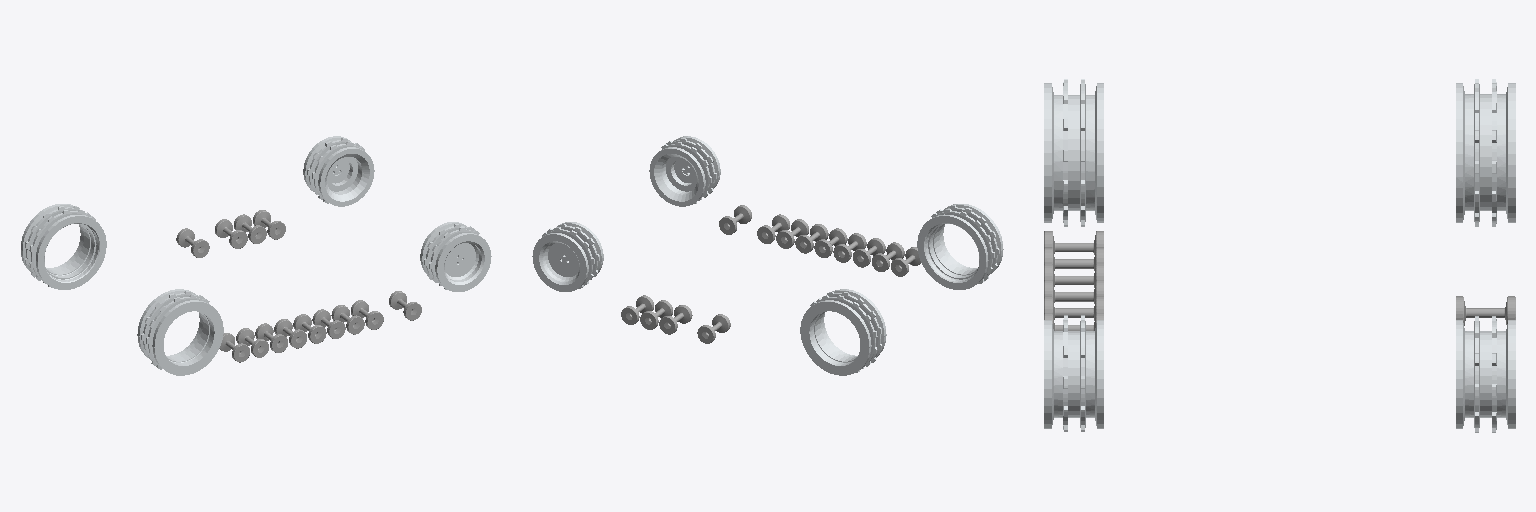
--- What the picture shows (computed from the rendered views, not written in the file) ---
Views: 3 orthographic renders of the robot side by side, from view 1: azimuth 30°, elevation 25°; view 2: azimuth 150°, elevation 25°; view 3: azimuth 270°, elevation 25°.
Model mini_ugv_asm with 27 links and 26 joints (26 continuous), rooted at base_link, posed all joints at 0.
Links seen in each view (by area): view 1: Front_Wheel_Left, Front_Wheel_Right, Rear_Wheel_Right, Rear_Wheel_Left, R_Roller_6, R_Roller_4, L_Roller_1, L_Roller_6, L_Roller_3, R_Roller_2, L_Roller_4, L_Roller_7 (+3 smaller); view 2: Front_Wheel_Right, Front_Wheel_Left, Rear_Wheel_Left, Rear_Wheel_Right, R_Roller_6, R_Roller_4, L_Roller_1, L_Roller_7, L_Roller_4, L_Roller_5, L_Roller_6, R_Roller_3 (+1 smaller); view 3: Front_Wheel_Right, Front_Wheel_Left, Rear_Wheel_Left, Rear_Wheel_Right, R_Roller_6, L_Roller_9, L_Roller_7, L_Roller_6, L_Roller_10, L_Roller_8.
Boxes of the visible links, x1=… form: Front_Wheel_Left: x1=137, y1=289, x2=223, y2=375; Front_Wheel_Right: x1=21, y1=204, x2=106, y2=289; Rear_Wheel_Right: x1=303, y1=136, x2=374, y2=206; Rear_Wheel_Left: x1=420, y1=222, x2=491, y2=291; R_Roller_6: x1=176, y1=228, x2=209, y2=257; R_Roller_4: x1=215, y1=219, x2=247, y2=248; L_Roller_1: x1=389, y1=291, x2=421, y2=320; L_Roller_6: x1=293, y1=314, x2=326, y2=343; L_Roller_3: x1=351, y1=300, x2=383, y2=329; R_Roller_2: x1=253, y1=210, x2=285, y2=239; L_Roller_4: x1=331, y1=305, x2=364, y2=334; L_Roller_7: x1=274, y1=319, x2=306, y2=348; Front_Wheel_Right: x1=800, y1=289, x2=886, y2=375; Front_Wheel_Left: x1=917, y1=204, x2=1003, y2=289; Rear_Wheel_Left: x1=649, y1=136, x2=720, y2=206; Rear_Wheel_Right: x1=532, y1=222, x2=603, y2=291; R_Roller_6: x1=697, y1=314, x2=730, y2=343; R_Roller_4: x1=659, y1=305, x2=692, y2=334; L_Roller_1: x1=719, y1=205, x2=751, y2=234; L_Roller_7: x1=833, y1=233, x2=866, y2=262; L_Roller_4: x1=776, y1=219, x2=808, y2=248; L_Roller_5: x1=795, y1=224, x2=828, y2=253; L_Roller_6: x1=814, y1=228, x2=847, y2=257; R_Roller_3: x1=640, y1=300, x2=672, y2=329; Front_Wheel_Right: x1=1456, y1=79, x2=1515, y2=226; Front_Wheel_Left: x1=1044, y1=79, x2=1103, y2=226; Rear_Wheel_Left: x1=1044, y1=315, x2=1103, y2=431; Rear_Wheel_Right: x1=1456, y1=316, x2=1515, y2=432; R_Roller_6: x1=1456, y1=296, x2=1515, y2=325; L_Roller_9: x1=1044, y1=247, x2=1103, y2=270; L_Roller_7: x1=1044, y1=280, x2=1103, y2=303; L_Roller_6: x1=1044, y1=296, x2=1103, y2=320; L_Roller_10: x1=1044, y1=231, x2=1103, y2=254; L_Roller_8: x1=1044, y1=264, x2=1103, y2=287.
Bounding box of the posed robot: 0.8669 × 0.59 × 0.1867 m (x, y, z).
17 mesh visuals loaded from 27 distinct referenced files (17 binary STL); not drawn: 10 (reference not matched to a file when rendering).

The robot description file, URDF, robot "mini_ugv_asm":
<?xml version="1.0" encoding="utf-8"?>
<!-- This URDF was automatically created by SolidWorks to URDF Exporter! Originally created by Stephen Brawner ([email redacted]) 
     Commit Version: 1.6.0-4-g7f85cfe  Build Version: 1.6.7995.38578
     For more information, please see http://wiki.ros.org/sw_urdf_exporter -->
<robot
  name="mini_ugv_asm">
  <link
    name="base_link">
    <inertial>
      <origin
        xyz="-0.0822009683879234 -0.00354592124515457 0.0195704968008771"
        rpy="0 0 0" />
      <mass
        value="43.2527722253491" />
      <inertia
        ixx="0.636823963556697"
        ixy="-0.000430801390176523"
        ixz="0.0114672691633471"
        iyy="1.44056741497044"
        iyz="-0.000941262680704078"
        izz="1.89219708661203" />
    </inertial>
    <visual>
      <origin
        xyz="0 0 0"
        rpy="0 0 0" />
      <geometry>
        <mesh
          filename="package://mini_ugv_asm/meshes/base_link.STL" />
      </geometry>
      <material
        name="">
        <color
          rgba="0.698039215686274 0.698039215686274 0.698039215686274 1" />
      </material>
    </visual>
    <!-- <collision>
      <origin
        xyz="0 0 0"
        rpy="0 0 0" />
      <geometry>
        <mesh
          filename="package://mini_ugv_asm/meshes/base_link.STL" />
      </geometry>
    </collision> -->
  </link>
  <link
    name="Rear_Wheel_Left">
    <inertial>
      <origin
        xyz="-4.4397E-07 0.0068282 2.7756E-17"
        rpy="0 0 0" />
      <mass
        value="1.3168" />
      <inertia
        ixx="0.0023855"
        ixy="-6.126E-09"
        ixz="5.4928E-19"
        iyy="0.0036694"
        iyz="1.2599E-19"
        izz="0.0023855" />
    </inertial>
    <visual>
      <origin
        xyz="0 0 0"
        rpy="0 0 0" />
      <geometry>
        <mesh
          filename="package://mini_ugv_asm/meshes/Rear_Wheel_Left.STL" />
      </geometry>
      <material
        name="">
        <color
          rgba="0.89804 0.91765 0.92941 1" />
      </material>
    </visual>
    <collision>
      <origin
        xyz="0 0 0"
        rpy="1.5708 0 0" />
      <geometry>
        <cylinder length="0.08" radius="0.13"/>
        <!-- <mesh -->
          <!-- filename="package://mini_ugv_asm/meshes/rear_wheel_collision.STL" /> -->
      </geometry>
    </collision>
  </link>
  <joint
    name="R_W_L"
    type="continuous">
    <origin
      xyz="0.36016 -0.2664 0.009"
      rpy="0 0 0" />
    <parent
      link="base_link" />
    <child
      link="Rear_Wheel_Left" />
    <axis
      xyz="0 -1 0" />
    <mimic joint="left_wheel" multiplier="-1.0"/>
  </joint>
  <link
    name="Rear_Wheel_Right">
    <inertial>
      <origin
        xyz="-1.1102E-16 -0.0068282 -4.4397E-07"
        rpy="0 0 0" />
      <mass
        value="1.3168" />
      <inertia
        ixx="0.0023855"
        ixy="1.0123E-20"
        ixz="3.3599E-19"
        iyy="0.0036694"
        iyz="6.126E-09"
        izz="0.0023855" />
    </inertial>
    <visual>
      <origin
        xyz="0 0 0"
        rpy="0 0 0" />
      <geometry>
        <mesh
          filename="package://mini_ugv_asm/meshes/Rear_Wheel_Right.STL" />
      </geometry>
      <material
        name="">
        <color
          rgba="0.89804 0.91765 0.92941 1" />
      </material>
    </visual>
    <collision>
      <origin
        xyz="0 0 0"
        rpy="1.5708 0 0" />
      <geometry>
        <cylinder length="0.08" radius="0.13"/>
        <!-- <mesh
          filename="package://mini_ugv_asm/meshes/rear_wheel_collision.STL" /> -->
      </geometry>
    </collision>
  </link>
  <joint
    name="R_W_R"
    type="continuous">
    <origin
      xyz="0.36016 0.2664 0.009"
      rpy="0 0 0" />
    <parent
      link="base_link" />
    <child
      link="Rear_Wheel_Right" />
    <axis
      xyz="0 -1 0" />
    <mimic joint="right_wheel" multiplier="-1.0"/>
  </joint>
  <link
    name="Front_Wheel_Left">
    <inertial>
      <origin
        xyz="8.3267E-17 0.0073593 0"
        rpy="0 0 0" />
      <mass
        value="1.4353" />
      <inertia
        ixx="0.004811"
        ixy="-1.8817E-19"
        ixz="1.0723E-18"
        iyy="0.008112"
        iyz="6.6574E-19"
        izz="0.004811" />
    </inertial>
    <visual>
      <origin
        xyz="0 0 0"
        rpy="0 0 0" />
      <geometry>
        <mesh
          filename="package://mini_ugv_asm/meshes/Front_Wheel_Left.STL" />
      </geometry>
      <material
        name="">
        <color
          rgba="0.89804 0.91765 0.92941 1" />
      </material>
    </visual>
    <collision>
      <origin
        xyz="0 0 0"
        rpy="1.5708 0 0" />
      <geometry>
        <cylinder length="0.09" radius="0.115"/>
        <!-- <mesh
          filename="package://mini_ugv_asm/meshes/front_wheel_collision.STL" /> -->
      </geometry>
    </collision>
  </link>
  <joint
    name="left_wheel"
    type="continuous">
    <origin
      xyz="-0.33984 -0.2664 -0.011"
      rpy="0 0 0" />
    <parent
      link="base_link" />
    <child
      link="Front_Wheel_Left" />
    <axis
      xyz="0 -1 0" />
  </joint>
  <link
    name="Front_Wheel_Right">
    <inertial>
      <origin
        xyz="2.9143E-16 -0.0073593 -3.0531E-16"
        rpy="0 0 0" />
      <mass
        value="1.4353" />
      <inertia
        ixx="0.004811"
        ixy="-5.2818E-19"
        ixz="1.5753E-18"
        iyy="0.008112"
        iyz="-4.2567E-19"
        izz="0.004811" />
    </inertial>
    <visual>
      <origin
        xyz="0 0 0"
        rpy="0 0 0" />
      <geometry>
        <mesh
          filename="package://mini_ugv_asm/meshes/Front_Wheel_Right.STL" />
      </geometry>
      <material
        name="">
        <color
          rgba="0.89804 0.91765 0.92941 1" />
      </material>
    </visual>
    <collision>
      <origin
        xyz="0 0 0"
        rpy="1.5708 0 0" />
      <geometry>
        <cylinder length="0.09" radius="0.115"/>
        <!-- <mesh
          filename="package://mini_ugv_asm/meshes/front_wheel_collision.STL" /> -->
      </geometry>
    </collision>
  </link>
  <joint
    name="right_wheel"
    type="continuous">
    <origin
      xyz="-0.33984 0.2664 -0.011"
      rpy="0 0 0" />
    <parent
      link="base_link" />
    <child
      link="Front_Wheel_Right" />
    <axis
      xyz="0 -1 0" />
  </joint>
  <link
    name="Flippers_Left">
    <inertial>
      <origin
        xyz="1.7629E-05 -0.033132 5.3955E-05"
        rpy="0 0 0" />
      <mass
        value="3.0642" />
      <inertia
        ixx="0.00058759"
        ixy="-1.4902E-07"
        ixz="-3.3147E-07"
        iyy="0.0011056"
        iyz="-4.5892E-07"
        izz="0.00058668" />
    </inertial>
    <visual>
      <origin
        xyz="0 0 0"
        rpy="0 3.14 0" />
      <geometry>
        <mesh
          filename="package://mini_ugv_asm/meshes/Flippers_Left.STL" />
      </geometry>
      <material
        name="">
        <color
          rgba="0.69804 0.69804 0.69804 1" />
      </material>
    </visual>
    <collision>
      <origin
        xyz="0 -0.22 0"
        rpy="0 3.489066 0" />
      <geometry>
        <mesh
          filename="package://mini_ugv_asm/meshes/flipper_collision.STL" />
      </geometry>
    </collision>
  </link>
  <joint
    name="Flipper"
    type="continuous">
    <origin
      xyz="-0.33984 -0.2664 -0.011"
      rpy="0 0 0" />
    <parent
      link="base_link" />
    <child
      link="Flippers_Left" />
    <axis
      xyz="0 -1 0" />
  </joint>
  <link
    name="Flippers_Right">
    <inertial>
      <origin
        xyz="-1.7561E-05 0.069532 -5.3977E-05"
        rpy="0 0 0" />
      <mass
        value="3.0642" />
      <inertia
        ixx="0.00058759"
        ixy="-1.5012E-07"
        ixz="-3.3147E-07"
        iyy="0.0011056"
        iyz="-4.5857E-07"
        izz="0.00058668" />
    </inertial>
    <visual>
      <origin
        xyz="0 0 0"
        rpy="0 0 0" />
      <geometry>
        <mesh
          filename="package://mini_ugv_asm/meshes/Flippers_Right.STL" />
      </geometry>
      <material
        name="">
        <color
          rgba="0.69804 0.69804 0.69804 1" />
      </material>
    </visual>
    <collision>
      <origin
        xyz="0 0 0"
        rpy="0 0.349066 0" />
      <geometry>
        <mesh
          filename="package://mini_ugv_asm/meshes/flipper_collision.STL" />
      </geometry>
    </collision>
  </link>
  <joint
    name="F_R"
    type="continuous">
    <origin
      xyz="-0.33984 0.23 -0.011"
      rpy="0 0 0" />
    <parent
      link="base_link" />
    <child
      link="Flippers_Right" />
    <axis
      xyz="0 -1 0" />
    <mimic joint="Flipper" multiplier="1.0"/>
  </joint>
  <link
    name="L_Roller_1">
    <inertial>
      <origin
        xyz="-1.1102E-16 -5.7202E-07 2.7756E-17"
        rpy="0 0 0" />
      <mass
        value="0.051837" />
      <inertia
        ixx="5.1859E-05"
        ixy="-2.4838E-20"
        ixz="-5.9519E-20"
        iyy="1.3273E-05"
        iyz="-4.657E-20"
        izz="5.1859E-05" />
    </inertial>
    <visual>
      <origin
        xyz="0 0 0"
        rpy="0 0 0" />
      <geometry>
        <mesh
          filename="package://mini_ugv_asm/meshes/L_Roller_1.STL" />
      </geometry>
      <material
        name="">
        <color
          rgba="0.69804 0.69804 0.69804 1" />
      </material>
    </visual>
  </link>
  <joint
    name="lr1"
    type="continuous">
    <origin
      xyz="0.23166 -0.2575 -0.07925"
      rpy="0 0 0" />
    <parent
      link="base_link" />
    <child
      link="L_Roller_1" />
    <axis
      xyz="0 1 0" />
    <mimic joint="left_wheel" multiplier="-1.0"/>
  </joint>
  <link
    name="L_Roller_2">
    <inertial>
      <origin
        xyz="2.2204E-16 -5.7202E-07 -1.5266E-16"
        rpy="0 0 0" />
      <mass
        value="0.051837" />
      <inertia
        ixx="5.1859E-05"
        ixy="-1.2265E-19"
        ixz="-5.1659E-21"
        iyy="1.3273E-05"
        iyz="3.963E-20"
        izz="5.1859E-05" />
    </inertial>
    <visual>
      <origin
        xyz="0 0 0"
        rpy="0 0 0" />
      <geometry>
        <mesh
          filename="package://mini_ugv_asm/meshes/L_Roller_2.STL" />
      </geometry>
      <material
        name="">
        <color
          rgba="0.69804 0.69804 0.69804 1" />
      </material>
    </visual>
    <!-- <collision>
      <origin
        xyz="0 0 0"
        rpy="1.5708 0 0" />
      <geometry>
        <cylinder length="0.07" radius="0.04"/>
        <mesh
          filename="package://mini_ugv_asm/meshes/L_Roller_2.STL" />
      </geometry>
    </collision> -->
  </link>
  <joint
    name="lr2"
    type="continuous">
    <origin
      xyz="0.18316 -0.2575 -0.07925"
      rpy="0 0 0" />
    <parent
      link="base_link" />
    <child
      link="L_Roller_2" />
    <axis
      xyz="0 1 0" />
    <mimic joint="left_wheel" multiplier="-1.0"/>
  </joint>
  <link
    name="L_Roller_3">
    <inertial>
      <origin
        xyz="-1.1102E-16 -5.7202E-07 8.3267E-17"
        rpy="0 0 0" />
      <mass
        value="0.051837" />
      <inertia
        ixx="5.1859E-05"
        ixy="8.14E-20"
        ixz="1.0677E-19"
        iyy="1.3273E-05"
        iyz="-4.2563E-20"
        izz="5.1859E-05" />
    </inertial>
    <visual>
      <origin
        xyz="0 0 0"
        rpy="0 0 0" />
      <geometry>
        <mesh
          filename="package://mini_ugv_asm/meshes/L_Roller_3.STL" />
      </geometry>
      <material
        name="">
        <color
          rgba="0.69804 0.69804 0.69804 1" />
      </material>
    </visual>
    <!-- <collision>
      <origin
        xyz="0 0 0"
        rpy="1.5708 0 0" />
      <geometry>
        <cylinder length="0.07" radius="0.04"/>
      </geometry>
    </collision> -->
  </link>
  <joint
    name="lr3"
    type="continuous">
    <origin
      xyz="0.13466 -0.2575 -0.07925"
      rpy="0 0 0" />
    <parent
      link="base_link" />
    <child
      link="L_Roller_3" />
    <axis
      xyz="0 1 0" />
    <mimic joint="left_wheel" multiplier="-1.0"/>
  </joint>
  <link
    name="L_Roller_4">
    <inertial>
      <origin
        xyz="0 -5.7202E-07 -8.3267E-17"
        rpy="0 0 0" />
      <mass
        value="0.051837" />
      <inertia
        ixx="5.1859E-05"
        ixy="-1.2838E-19"
        ixz="4.0242E-20"
        iyy="1.3273E-05"
        iyz="2.0481E-20"
        izz="5.1859E-05" />
    </inertial>
    <visual>
      <origin
        xyz="0 0 0"
        rpy="0 0 0" />
      <geometry>
        <mesh
          filename="package://mini_ugv_asm/meshes/L_Roller_4.STL" />
      </geometry>
      <material
        name="">
        <color
          rgba="0.69804 0.69804 0.69804 1" />
      </material>
    </visual>
    <!-- <collision>
      <origin
        xyz="0 0 0"
        rpy="1.5708 0 0" />
      <geometry>
        <cylinder length="0.07" radius="0.04"/>
      </geometry>
    </collision> -->
  </link>
  <joint
    name="lr4"
    type="continuous">
    <origin
      xyz="0.086163 -0.2575 -0.07925"
      rpy="0 0 0" />
    <parent
      link="base_link" />
    <child
      link="L_Roller_4" />
    <axis
      xyz="0 1 0" />
    <mimic joint="left_wheel" multiplier="-1.0"/>
  </joint>
  <link
    name="L_Roller_5">
    <inertial>
      <origin
        xyz="0 -5.7202E-07 -9.7145E-17"
        rpy="0 0 0" />
      <mass
        value="0.051837" />
      <inertia
        ixx="5.1859E-05"
        ixy="-1.3783E-19"
        ixz="4.9588E-20"
        iyy="1.3273E-05"
        iyz="6.7041E-21"
        izz="5.1859E-05" />
    </inertial>
    <visual>
      <origin
        xyz="0 0 0"
        rpy="0 0 0" />
      <geometry>
        <mesh
          filename="package://mini_ugv_asm/meshes/L_Roller_5.STL" />
      </geometry>
      <material
        name="">
        <color
          rgba="0.69804 0.69804 0.69804 1" />
      </material>
    </visual>
    <!-- <collision>
      <origin
        xyz="0 0 0"
        rpy="1.5708 0 0" />
      <geometry>
        <cylinder length="0.07" radius="0.04"/>
      </geometry>
    </collision> -->
  </link>
  <joint
    name="lr5"
    type="continuous">
    <origin
      xyz="0.037663 -0.2575 -0.07925"
      rpy="0 0 0" />
    <parent
      link="base_link" />
    <child
      link="L_Roller_5" />
    <axis
      xyz="0 1 0" />
    <mimic joint="left_wheel" multiplier="-1.0"/>
  </joint>
  <link
    name="L_Roller_6">
    <inertial>
      <origin
        xyz="-5.5511E-17 -5.7202E-07 5.5511E-17"
        rpy="0 0 0" />
      <mass
        value="0.051837" />
      <inertia
        ixx="5.1859E-05"
        ixy="2.3549E-19"
        ixz="4.437E-21"
        iyy="1.3273E-05"
        iyz="-4.3926E-20"
        izz="5.1859E-05" />
    </inertial>
    <visual>
      <origin
        xyz="0 0 0"
        rpy="0 0 0" />
      <geometry>
        <mesh
          filename="package://mini_ugv_asm/meshes/L_Roller_6.STL" />
      </geometry>
      <material
        name="">
        <color
          rgba="0.69804 0.69804 0.69804 1" />
      </material>
    </visual>
    <!-- <collision>
      <origin
        xyz="0 0 0"
        rpy="1.5708 0 0" />
      <geometry>
        <cylinder length="0.07" radius="0.04"/>
      </geometry>
    </collision> -->
  </link>
  <joint
    name="lr6"
    type="continuous">
    <origin
      xyz="-0.010837 -0.2575 -0.07925"
      rpy="0 0 0" />
    <parent
      link="base_link" />
    <child
      link="L_Roller_6" />
    <axis
      xyz="0 1 0" />
    <mimic joint="left_wheel" multiplier="-1.0"/>
  </joint>
  <link
    name="L_Roller_7">
    <inertial>
      <origin
        xyz="1.6653E-16 -5.7202E-07 -6.9389E-17"
        rpy="0 0 0" />
      <mass
        value="0.051837" />
      <inertia
        ixx="5.1859E-05"
        ixy="1.1597E-19"
        ixz="2.9154E-22"
        iyy="1.3273E-05"
        iyz="-4.8308E-21"
        izz="5.1859E-05" />
    </inertial>
    <visual>
      <origin
        xyz="0 0 0"
        rpy="0 0 0" />
      <geometry>
        <mesh
          filename="package://mini_ugv_asm/meshes/L_Roller_7.STL" />
      </geometry>
      <material
        name="">
        <color
          rgba="0.69804 0.69804 0.69804 1" />
      </material>
    </visual>
    <!-- <collision>
      <origin
        xyz="0 0 0"
        rpy="1.5708 0 0" />
      <geometry>
        <cylinder length="0.07" radius="0.04"/>
      </geometry>
    </collision> -->
  </link>
  <joint
    name="lr7"
    type="continuous">
    <origin
      xyz="-0.059337 -0.2575 -0.07925"
      rpy="0 0 0" />
    <parent
      link="base_link" />
    <child
      link="L_Roller_7" />
    <axis
      xyz="0 1 0" />
    <mimic joint="left_wheel" multiplier="-1.0"/>
  </joint>
  <link
    name="L_Roller_8">
    <inertial>
      <origin
        xyz="1.1102E-16 -5.7202E-07 -5.5511E-17"
        rpy="0 0 0" />
      <mass
        value="0.051837" />
      <inertia
        ixx="5.1859E-05"
        ixy="1.1597E-19"
        ixz="2.9154E-22"
        iyy="1.3273E-05"
        iyz="-4.8308E-21"
        izz="5.1859E-05" />
    </inertial>
    <visual>
      <origin
        xyz="0 0 0"
        rpy="0 0 0" />
      <geometry>
        <mesh
          filename="package://mini_ugv_asm/meshes/L_Roller_8.STL" />
      </geometry>
      <material
        name="">
        <color
          rgba="0.69804 0.69804 0.69804 1" />
      </material>
    </visual>
    <!-- <collision>
      <origin
        xyz="0 0 0"
        rpy="1.5708 0 0" />
      <geometry>
        <cylinder length="0.07" radius="0.04"/>
      </geometry>
    </collision> -->
  </link>
  <joint
    name="lr8"
    type="continuous">
    <origin
      xyz="-0.10784 -0.2575 -0.07925"
      rpy="0 0 0" />
    <parent
      link="base_link" />
    <child
      link="L_Roller_8" />
    <axis
      xyz="0 1 0" />
    <mimic joint="left_wheel" multiplier="-1.0"/>
  </joint>
  <link
    name="L_Roller_9">
    <inertial>
      <origin
        xyz="1.6653E-16 -5.7202E-07 -5.5511E-17"
        rpy="0 0 0" />
      <mass
        value="0.051837" />
      <inertia
        ixx="5.1859E-05"
        ixy="1.1597E-19"
        ixz="2.9154E-22"
        iyy="1.3273E-05"
        iyz="-4.8308E-21"
        izz="5.1859E-05" />
    </inertial>
    <visual>
      <origin
        xyz="0 0 0"
        rpy="0 0 0" />
      <geometry>
        <mesh
          filename="package://mini_ugv_asm/meshes/L_Roller_9.STL" />
      </geometry>
      <material
        name="">
        <color
          rgba="0.69804 0.69804 0.69804 1" />
      </material>
    </visual>
    <!-- <collision>
      <origin
        xyz="0 0 0"
        rpy="1.5708 0 0" />
      <geometry>
        <cylinder length="0.07" radius="0.04"/>
      </geometry>
    </collision> -->
  </link>
  <joint
    name="lr9"
    type="continuous">
    <origin
      xyz="-0.15634 -0.2575 -0.07925"
      rpy="0 0 0" />
    <parent
      link="base_link" />
    <child
      link="L_Roller_9" />
    <axis
      xyz="0 1 0" />
    <mimic joint="left_wheel" multiplier="-1.0"/>
  </joint>
  <link
    name="L_Roller_10">
    <inertial>
      <origin
        xyz="2.2204E-16 -5.7202E-07 -8.3267E-17"
        rpy="0 0 0" />
      <mass
        value="0.051837" />
      <inertia
        ixx="5.1859E-05"
        ixy="-6.4079E-20"
        ixz="2.4481E-22"
        iyy="1.3273E-05"
        iyz="2.5428E-20"
        izz="5.1859E-05" />
    </inertial>
    <visual>
      <origin
        xyz="0 0 0"
        rpy="0 0 0" />
      <geometry>
        <mesh
          filename="package://mini_ugv_asm/meshes/L_Roller_10.STL" />
      </geometry>
      <material
        name="">
        <color
          rgba="0.69804 0.69804 0.69804 1" />
      </material>
    </visual>
    <!-- <collision>
      <origin
        xyz="0 0 0"
        rpy="1.5708 0 0" />
      <geometry>
        <cylinder length="0.07" radius="0.04"/>
      </geometry>
    </collision> -->
  </link>
  <joint
    name="lr10"
    type="continuous">
    <origin
      xyz="-0.20484 -0.2575 -0.07925"
      rpy="0 0 0" />
    <parent
      link="base_link" />
    <child
      link="L_Roller_10" />
    <axis
      xyz="0 1 0" />
    <mimic joint="left_wheel" multiplier="-1.0"/>
  </joint>
  <link
    name="R_Roller_1">
    <inertial>
      <origin
        xyz="-1.1102E-16 -5.7202E-07 0"
        rpy="0 0 0" />
      <mass
        value="0.051837" />
      <inertia
        ixx="5.1859E-05"
        ixy="9.2222E-20"
        ixz="-5.9515E-20"
        iyy="1.3273E-05"
        iyz="-3.0992E-20"
        izz="5.1859E-05" />
    </inertial>
    <visual>
      <origin
        xyz="0 0 0"
        rpy="0 0 0" />
      <geometry>
        <mesh
          filename="package://mini_ugv_asm/meshes/R_Roller_1.STL" />
      </geometry>
      <material
        name="">
        <color
          rgba="0.69804 0.69804 0.69804 1" />
      </material>
    </visual>
    <!-- <collision>
      <origin
        xyz="0 0 0"
        rpy="1.5708 0 0" />
      <geometry>
        <cylinder length="0.07" radius="0.04"/>
      </geometry>
    </collision> -->
  </link>
  <joint
    name="rr1"
    type="continuous">
    <origin
      xyz="0.23166 0.2575 -0.07925"
      rpy="0 0 0" />
    <parent
      link="base_link" />
    <child
      link="R_Roller_1" />
    <axis
      xyz="0 1 0" />
    <mimic joint="right_wheel" multiplier="-1.0"/>
  </joint>
  <link
    name="R_Roller_2">
    <inertial>
      <origin
        xyz="2.2204E-16 -5.7202E-07 -2.7756E-17"
        rpy="0 0 0" />
      <mass
        value="0.051837" />
      <inertia
        ixx="5.1859E-05"
        ixy="-4.3431E-20"
        ixz="6.1368E-20"
        iyy="1.3273E-05"
        iyz="5.5602E-20"
        izz="5.1859E-05" />
    </inertial>
    <visual>
      <origin
        xyz="0 0 0"
        rpy="0 0 0" />
      <geometry>
        <mesh
          filename="package://mini_ugv_asm/meshes/R_Roller_2.STL" />
      </geometry>
      <material
        name="">
        <color
          rgba="0.69804 0.69804 0.69804 1" />
      </material>
    </visual>
    <!-- <collision>
      <origin
        xyz="0 0 0"
        rpy="1.5708 0 0" />
      <geometry>
        <cylinder length="0.07" radius="0.04"/>
      </geometry>
    </collision> -->
  </link>
  <joint
    name="rr2"
    type="continuous">
    <origin
      xyz="0.18316 0.2575 -0.07925"
      rpy="0 0 0" />
    <parent
      link="base_link" />
    <child
      link="R_Roller_2" />
    <axis
      xyz="0 1 0" />
    <mimic joint="right_wheel" multiplier="-1.0"/>
  </joint>
  <link
    name="R_Roller_3">
    <inertial>
      <origin
        xyz="-1.1102E-16 -5.7202E-07 5.5511E-17"
        rpy="0 0 0" />
      <mass
        value="0.051837" />
      <inertia
        ixx="5.1859E-05"
        ixy="-5.8286E-20"
        ixz="9.3699E-20"
        iyy="1.3273E-05"
        iyz="-1.919E-20"
        izz="5.1859E-05" />
    </inertial>
    <visual>
      <origin
        xyz="0 0 0"
        rpy="0 0 0" />
      <geometry>
        <mesh
          filename="package://mini_ugv_asm/meshes/R_Roller_3.STL" />
      </geometry>
      <material
        name="">
        <color
          rgba="0.69804 0.69804 0.69804 1" />
      </material>
    </visual>
    <!-- <collision>
      <origin
        xyz="0 0 0"
        rpy="1.5708 0 0" />
      <geometry>
        <cylinder length="0.07" radius="0.04"/>
      </geometry>
    </collision> -->
  </link>
  <joint
    name="rr3"
    type="continuous">
    <origin
      xyz="0.13466 0.2575 -0.07925"
      rpy="0 0 0" />
    <parent
      link="base_link" />
    <child
      link="R_Roller_3" />
    <axis
      xyz="0 1 0" />
    <mimic joint="right_wheel" multiplier="-1.0"/>
  </joint>
  <link
    name="R_Roller_4">
    <inertial>
      <origin
        xyz="1.1102E-16 -5.7202E-07 -5.5511E-17"
        rpy="0 0 0" />
      <mass
        value="0.051837" />
      <inertia
        ixx="5.1859E-05"
        ixy="3.6738E-20"
        ixz="6.5546E-20"
        iyy="1.3273E-05"
        iyz="-1.3118E-20"
        izz="5.1859E-05" />
    </inertial>
    <visual>
      <origin
        xyz="0 0 0"
        rpy="0 0 0" />
      <geometry>
        <mesh
          filename="package://mini_ugv_asm/meshes/R_Roller_4.STL" />
      </geometry>
      <material
        name="">
        <color
          rgba="0.69804 0.69804 0.69804 1" />
      </material>
    </visual>
    <!-- <collision>
      <origin
        xyz="0 0 0"
        rpy="1.5708 0 0" />
      <geometry>
        <cylinder length="0.07" radius="0.04"/>
      </geometry>
    </collision> -->
  </link>
  <joint
    name="rr4"
    type="continuous">
    <origin
      xyz="0.086163 0.2575 -0.07925"
      rpy="0 0 0" />
    <parent
      link="base_link" />
    <child
      link="R_Roller_4" />
    <axis
      xyz="0 1 0" />
    <mimic joint="right_wheel" multiplier="-1.0"/>
  </joint>
  <link
    name="R_Roller_5">
    <inertial>
      <origin
        xyz="-1.1102E-16 -5.7202E-07 4.1633E-17"
        rpy="0 0 0" />
      <mass
        value="0.051837" />
      <inertia
        ixx="5.1859E-05"
        ixy="-1.5476E-19"
        ixz="6.2815E-20"
        iyy="1.3273E-05"
        iyz="-4.1914E-20"
        izz="5.1859E-05" />
    </inertial>
    <visual>
      <origin
        xyz="0 0 0"
        rpy="0 0 0" />
      <geometry>
        <mesh
          filename="package://mini_ugv_asm/meshes/R_Roller_5.STL" />
      </geometry>
      <material
        name="">
        <color
          rgba="0.69804 0.69804 0.69804 1" />
      </material>
    </visual>
    <!-- <collision>
      <origin
        xyz="0 0 0"
        rpy="1.5708 0 0" />
      <geometry>
        <cylinder length="0.07" radius="0.04"/>
      </geometry>
    </collision> -->
  </link>
  <joint
    name="rr5"
    type="continuous">
    <origin
      xyz="0.037663 0.2575 -0.07925"
      rpy="0 0 0" />
    <parent
      link="base_link" />
    <child
      link="R_Roller_5" />
    <axis
      xyz="0 1 0" />
    <mimic joint="right_wheel" multiplier="-1.0"/>
  </joint>
  <link
    name="R_Roller_6">
    <inertial>
      <origin
        xyz="1.1102E-16 -5.7202E-07 -4.1633E-17"
        rpy="0 0 0" />
      <mass
        value="0.051837" />
      <inertia
        ixx="5.1859E-05"
        ixy="-8.063E-20"
        ixz="5.6255E-20"
        iyy="1.3273E-05"
        iyz="7.8564E-20"
        izz="5.1859E-05" />
    </inertial>
    <visual>
      <origin
        xyz="0 0 0"
        rpy="0 0 0" />
      <geometry>
        <mesh
          filename="package://mini_ugv_asm/meshes/R_Roller_6.STL" />
      </geometry>
      <material
        name="">
        <color
          rgba="0.69804 0.69804 0.69804 1" />
      </material>
    </visual>
    <!-- <collision>
      <origin
        xyz="0 0 0"
        rpy="1.5708 0 0" />
      <geometry>
        <cylinder length="0.07" radius="0.04"/>
      </geometry>
    </collision> -->
  </link>
  <joint
    name="rr6"
    type="continuous">
    <origin
      xyz="-0.010837 0.2575 -0.07925"
      rpy="0 0 0" />
    <parent
      link="base_link" />
    <child
      link="R_Roller_6" />
    <axis
      xyz="0 1 0" />
    <mimic joint="right_wheel" multiplier="-1.0"/>
  </joint>
  <link
    name="R_Roller_7">
    <inertial>
      <origin
        xyz="-1.1102E-16 -5.7202E-07 5.5511E-17"
        rpy="0 0 0" />
      <mass
        value="0.051837" />
      <inertia
        ixx="5.1859E-05"
        ixy="7.1052E-22"
        ixz="5.1495E-20"
        iyy="1.3273E-05"
        iyz="-1.274E-20"
        izz="5.1859E-05" />
    </inertial>
    <visual>
      <origin
        xyz="0 0 0"
        rpy="0 0 0" />
      <geometry>
        <mesh
          filename="package://mini_ugv_asm/meshes/R_Roller_7.STL" />
      </geometry>
      <material
        name="">
        <color
          rgba="0.69804 0.69804 0.69804 1" />
      </material>
    </visual>
    <!-- <collision>
      <origin
        xyz="0 0 0"
        rpy="1.5708 0 0" />
      <geometry>
        <cylinder length="0.07" radius="0.04"/>
      </geometry>
    </collision> -->
  </link>
  <joint
    name="rr7"
    type="continuous">
    <origin
      xyz="-0.059337 0.2575 -0.07925"
      rpy="0 0 0" />
    <parent
      link="base_link" />
    <child
      link="R_Roller_7" />
    <axis
      xyz="0 1 0" />
    <mimic joint="right_wheel" multiplier="-1.0"/>
  </joint>
  <link
    name="R_Roller_8">
    <inertial>
      <origin
        xyz="1.1102E-16 -5.7202E-07 -4.1633E-17"
        rpy="0 0 0" />
      <mass
        value="0.051837" />
      <inertia
        ixx="5.1859E-05"
        ixy="4.5211E-20"
        ixz="5.4335E-20"
        iyy="1.3273E-05"
        iyz="-6.8407E-21"
        izz="5.1859E-05" />
    </inertial>
    <visual>
      <origin
        xyz="0 0 0"
        rpy="0 0 0" />
      <geometry>
        <mesh
          filename="package://mini_ugv_asm/meshes/R_Roller_8.STL" />
      </geometry>
      <material
        name="">
        <color
          rgba="0.69804 0.69804 0.69804 1" />
      </material>
    </visual>
    <!-- <collision>
      <origin
        xyz="0 0 0"
        rpy="1.5708 0 0" />
      <geometry>
        <cylinder length="0.07" radius="0.04"/>
      </geometry>
    </collision> -->
  </link>
  <joint
    name="rr8"
    type="continuous">
    <origin
      xyz="-0.10784 0.2575 -0.07925"
      rpy="0 0 0" />
    <parent
      link="base_link" />
    <child
      link="R_Roller_8" />
    <axis
      xyz="0 1 0" />
    <mimic joint="right_wheel" multiplier="-1.0"/>
  </joint>
  <link
    name="R_Roller_9">
    <inertial>
      <origin
        xyz="-1.1102E-16 -5.7202E-07 5.5511E-17"
        rpy="0 0 0" />
      <mass
        value="0.051837" />
      <inertia
        ixx="5.1859E-05"
        ixy="1.5595E-19"
        ixz="4.717E-20"
        iyy="1.3273E-05"
        iyz="-3.0154E-20"
        izz="5.1859E-05" />
    </inertial>
    <visual>
      <origin
        xyz="0 0 0"
        rpy="0 0 0" />
      <geometry>
        <mesh
          filename="package://mini_ugv_asm/meshes/R_Roller_9.STL" />
      </geometry>
      <material
        name="">
        <color
          rgba="0.69804 0.69804 0.69804 1" />
      </material>
    </visual>
    <!-- <collision>
      <origin
        xyz="0 0 0"
        rpy="1.5708 0 0" />
      <geometry>
        <cylinder length="0.07" radius="0.04"/>
      </geometry>
    </collision> -->
  </link>
  <joint
    name="rr9"
    type="continuous">
    <origin
      xyz="-0.15634 0.2575 -0.07925"
      rpy="0 0 0" />
    <parent
      link="base_link" />
    <child
      link="R_Roller_9" />
    <axis
      xyz="0 1 0" />
    <mimic joint="right_wheel" multiplier="-1.0"/>
  </joint>
  <link
    name="R_Roller_10">
    <inertial>
      <origin
        xyz="2.7756E-17 -5.7202E-07 -1.3878E-17"
        rpy="0 0 0" />
      <mass
        value="0.051837" />
      <inertia
        ixx="5.1859E-05"
        ixy="7.554E-20"
        ixz="-1.112E-20"
        iyy="1.3273E-05"
        iyz="2.9106E-20"
        izz="5.1859E-05" />
    </inertial>
    <visual>
      <origin
        xyz="0 0 0"
        rpy="0 0 0" />
      <geometry>
        <mesh
          filename="package://mini_ugv_asm/meshes/R_Roller_10.STL" />
      </geometry>
      <material
        name="">
        <color
          rgba="0.69804 0.69804 0.69804 1" />
      </material>
    </visual>
    <!-- <collision>
      <origin
        xyz="0 0 0"
        rpy="1.5708 0 0" />
      <geometry>
        <cylinder length="0.07" radius="0.04"/>
      </geometry>
    </collision> -->
  </link>
  <joint
    name="rr10"
    type="continuous">
    <origin
      xyz="-0.20484 0.2575 -0.07925"
      rpy="0 0 0" />
    <parent
      link="base_link" />
    <child
      link="R_Roller_10" />
    <axis
      xyz="0 1 0" />
    <mimic joint="right_wheel" multiplier="-1.0"/>
  </joint>
  <gazebo>
    <plugin filename="libgazebo_ros_diff_drive.so" name="skid_steer_drive_controller">
    <ros>
        <namespace>mini_ugv</namespace>
        <argument>--ros-args --remap /cmd_vel:=cmd_vel</argument>
        <argument>--ros-args --remap /odom:=odom</argument>
    </ros>
    <!-- Plugin update rate in Hz -->
    <update_rate>100</update_rate>
    <num_wheel_pairs>2</num_wheel_pairs>
    <!-- Name of left joint, defaults to `left_joint` -->
    <left_joint>left_wheel</left_joint>
    <left_joint>left_wheel</left_joint>
    <!-- Name of right joint, defaults to `right_joint` -->
    <right_joint>right_wheel</right_joint>
    <right_joint>right_wheel</right_joint>
    <!-- The distance from the center of one wheel to the other, in meters, defaults to 0.34 m -->
    <wheel_separation>0.5328</wheel_separation>
    <!-- Diameter of the wheels, in meters, defaults to 0.15 m -->
    <wheel_diameter>0.4</wheel_diameter>
    <!-- Wheel acceleration, in rad/s^2, defaults to 0.0 rad/s^2 -->
    <wheel_acceleration>0.0</wheel_acceleration>
    <!-- Maximum torque which the wheels can produce, in Nm, defaults to 5 Nm -->
    <max_wheel_torque>15</max_wheel_torque>
    <!-- Odometry frame, defaults to `odom` -->
    <odometry_frame>odom</odometry_frame>
    <!-- Robot frame to calculate odometry from, defaults to `base_footprint` -->
    <robot_base_frame>base_link</robot_base_frame>
    <!-- Set to true to publish transforms for the odometry, defaults to true -->
    <publish_odom>true</publish_odom>
    <publish_odom_tf>true</publish_odom_tf>
    <!-- Set to true to publish transforms for the wheel links, defaults to false -->
    <publish_wheel_tf>true</publish_wheel_tf>
    <!-- Odometry source, 0 for ENCODER, 1 for WORLD, defaults to WORLD -->
    <odometry_source>1</odometry_source>
    <!-- Set to true to publish sensor_msgs/JointState on /joint_states for the wheel joints, defaults to false -->
    <publis_wheel_joint_state>false</publis_wheel_joint_state>
    </plugin>

  </gazebo>
</robot>
